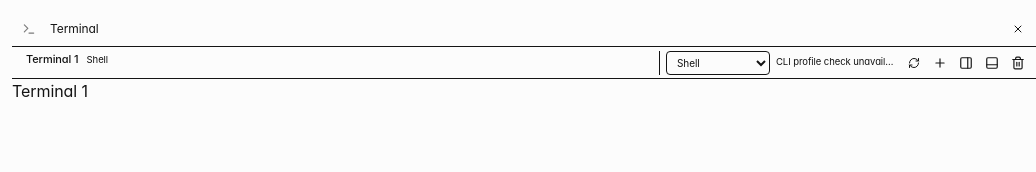
Test: WorkbenchTerminalPanel › supports roving tab focus, Delete to close, and accessible controls
Expected: the tab "Terminal 1 Shell" is shown, [18,50,116,74]
Click the button named "New terminal" at coordinates (940, 62), box [928,50,952,74]
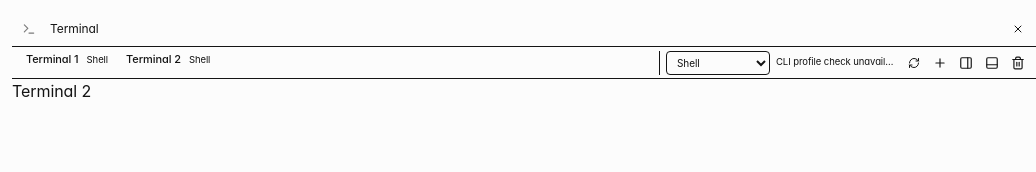
Press ArrowLeft in the tab "Terminal 2 Shell", box [118,50,218,74]
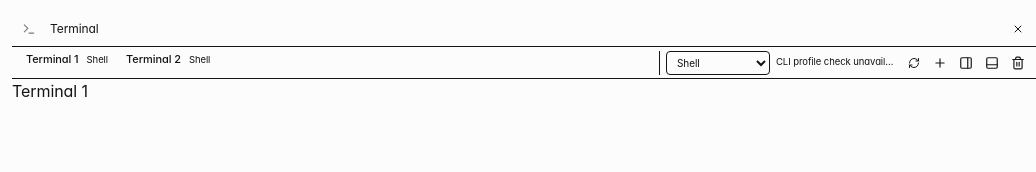
Press Delete in the tab "Terminal 1 Shell", box [18,50,116,74]
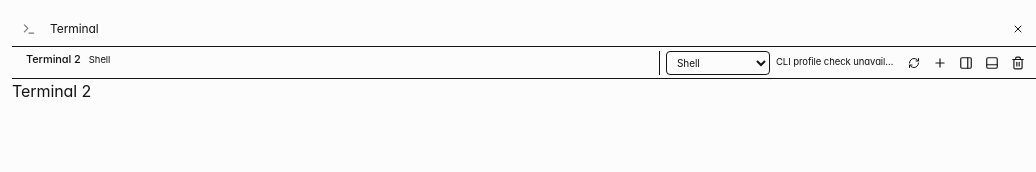
Expected: the button named "Close active terminal" is enabled, [1006,50,1030,74]
Expected: the tab "Terminal 1" is gone
